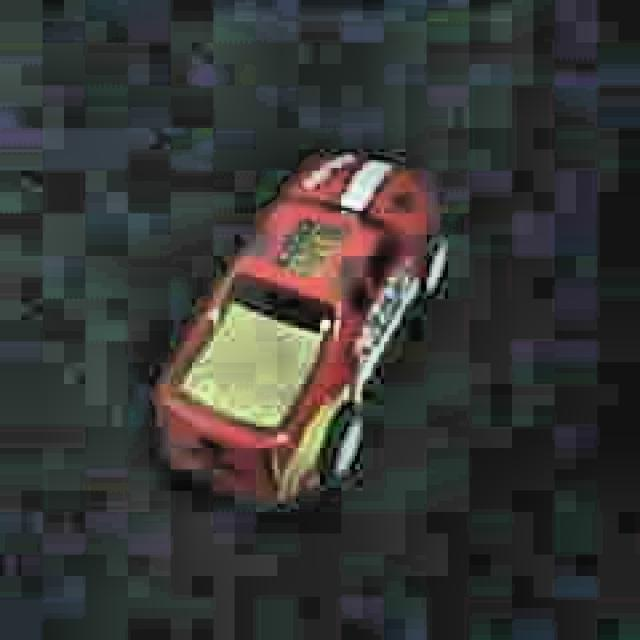car: (147, 144, 455, 514)
